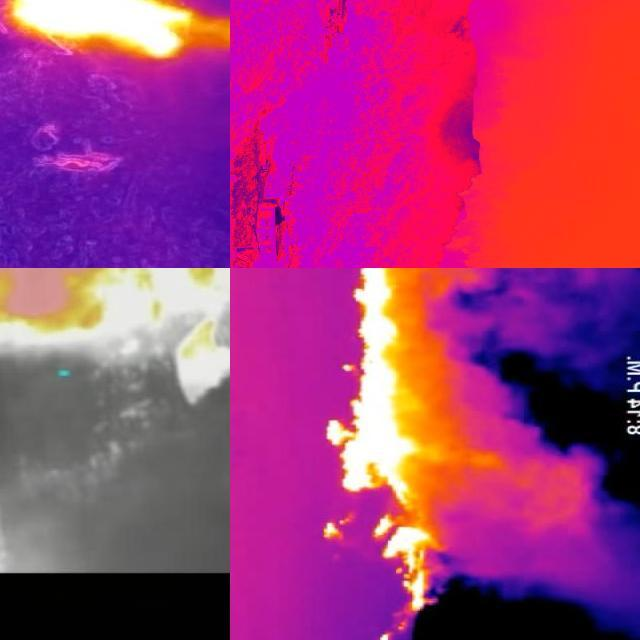fire: (320, 269, 478, 640), (1, 269, 231, 330), (9, 1, 205, 64)
